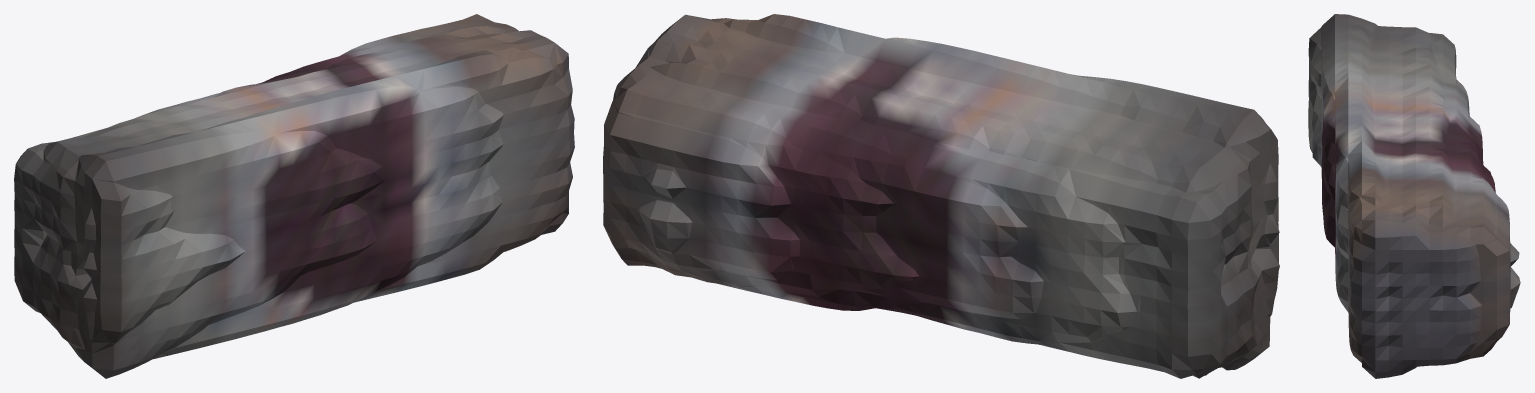
The model's file is producto-001.glb.
3 renders of one model, left to right at view 1: azimuth 30°, elevation 25°; view 2: azimuth 150°, elevation 25°; view 3: azimuth 270°, elevation 25°, orthographic. The views are drawn at different scales.
Parts seen in each view (by area): view 1: world; view 2: world; view 3: world.
Part boxes in pixels (x1,y1,x2,y2): world: (14,14,574,378); world: (603,14,1279,378); world: (1308,14,1520,378).
Size of the model in its own units: 1.02 by 0.4128 by 0.4342.
